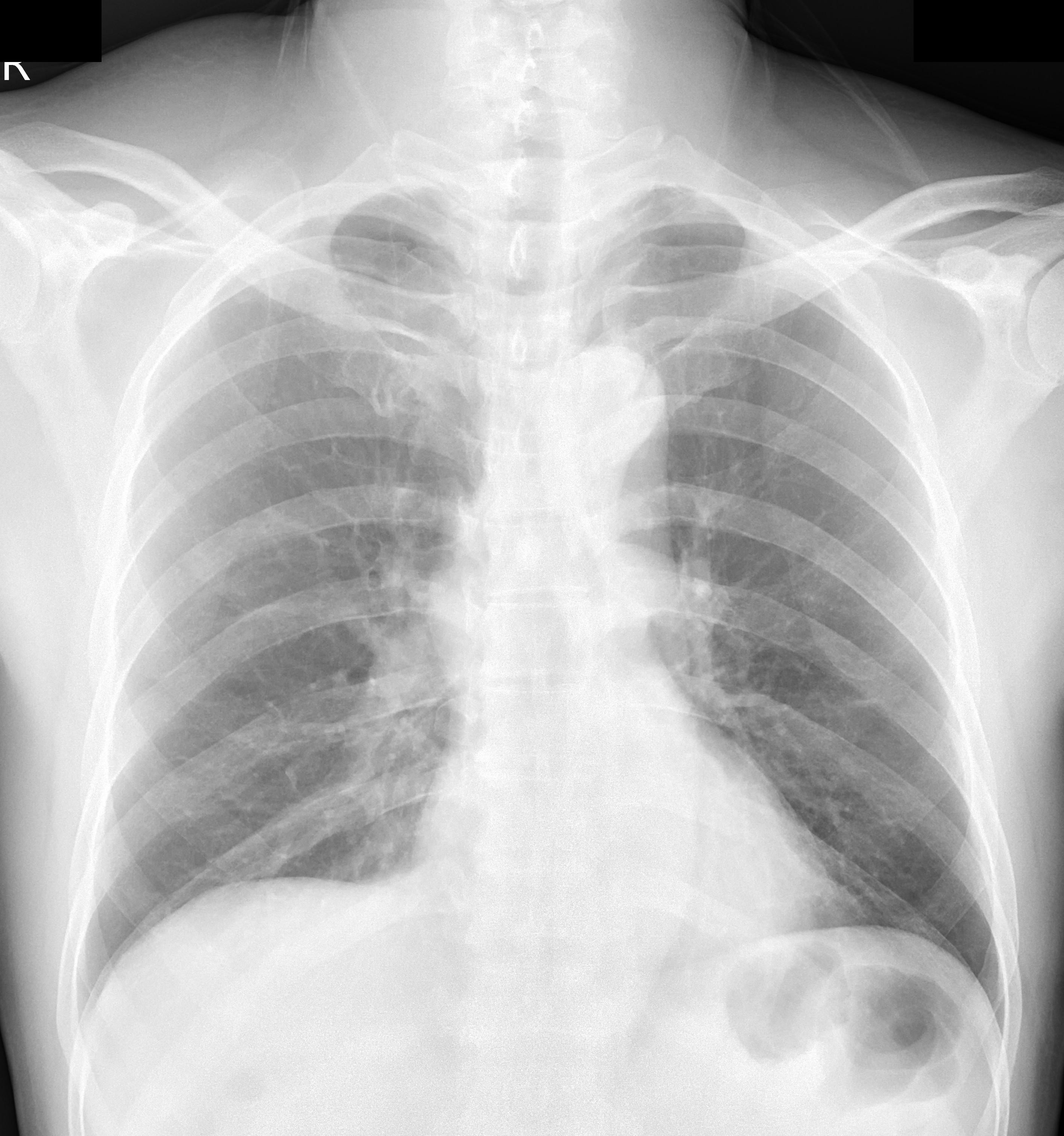Aortic enlargement: (545, 348, 667, 457)
Pulmonary fibrosis: (814, 689, 898, 716)
